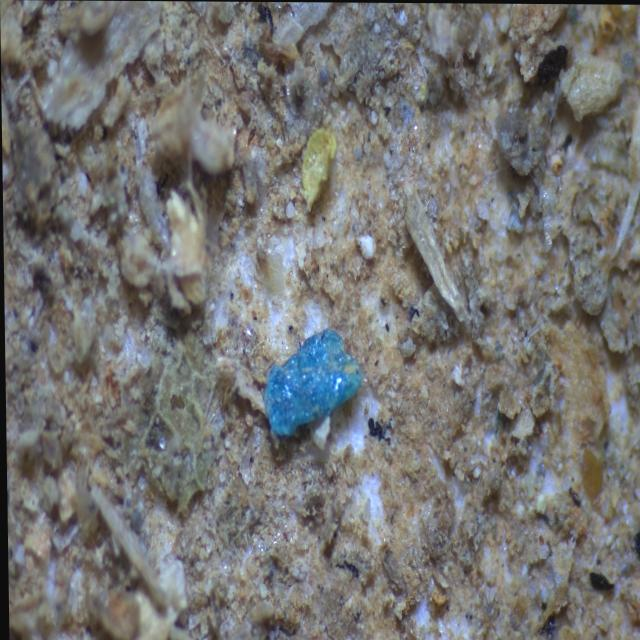microplastic: (239, 318, 374, 449)
